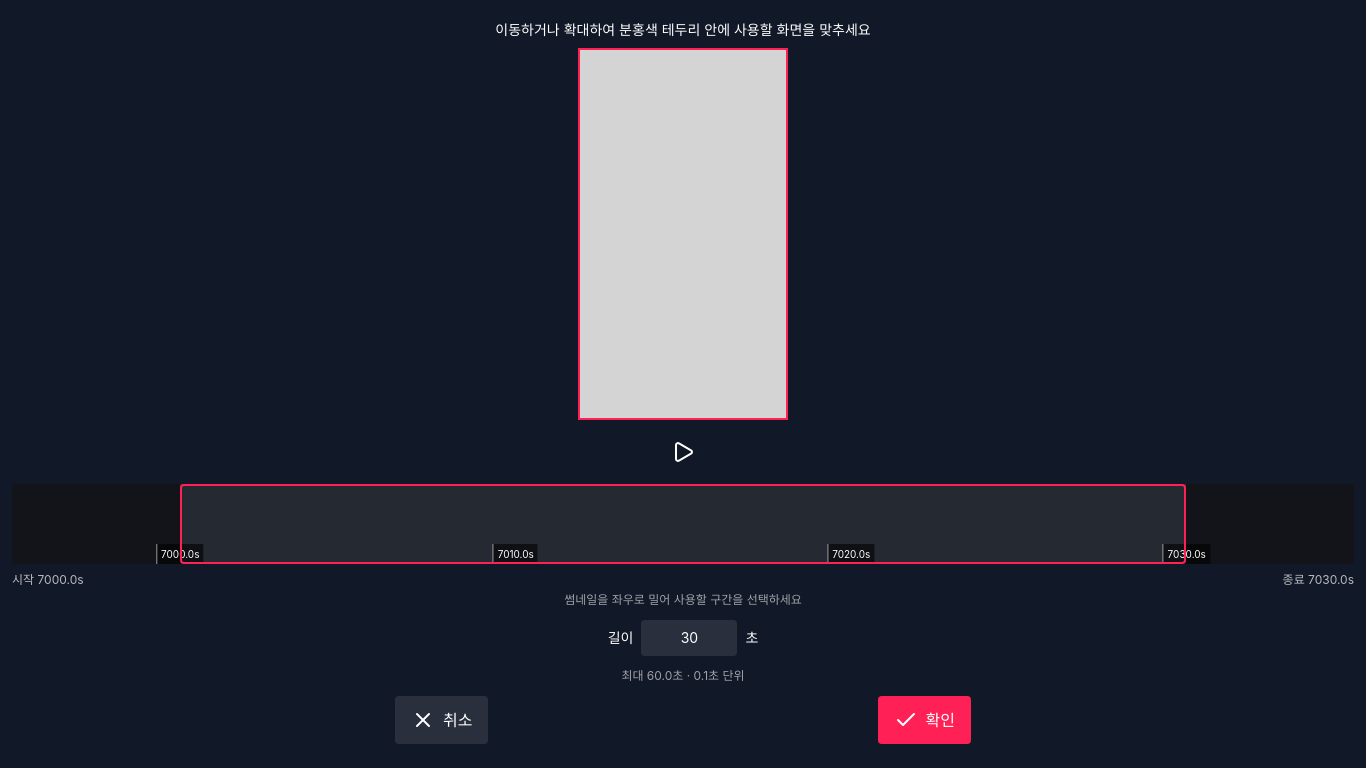
Test: keeps source positions beyond one hour while limiting only the selected length
The width and height of the screenshot is (1366, 768).
Replace the text in the field named "길이(초)" with "60" at (689, 638), box [641,620,737,656]
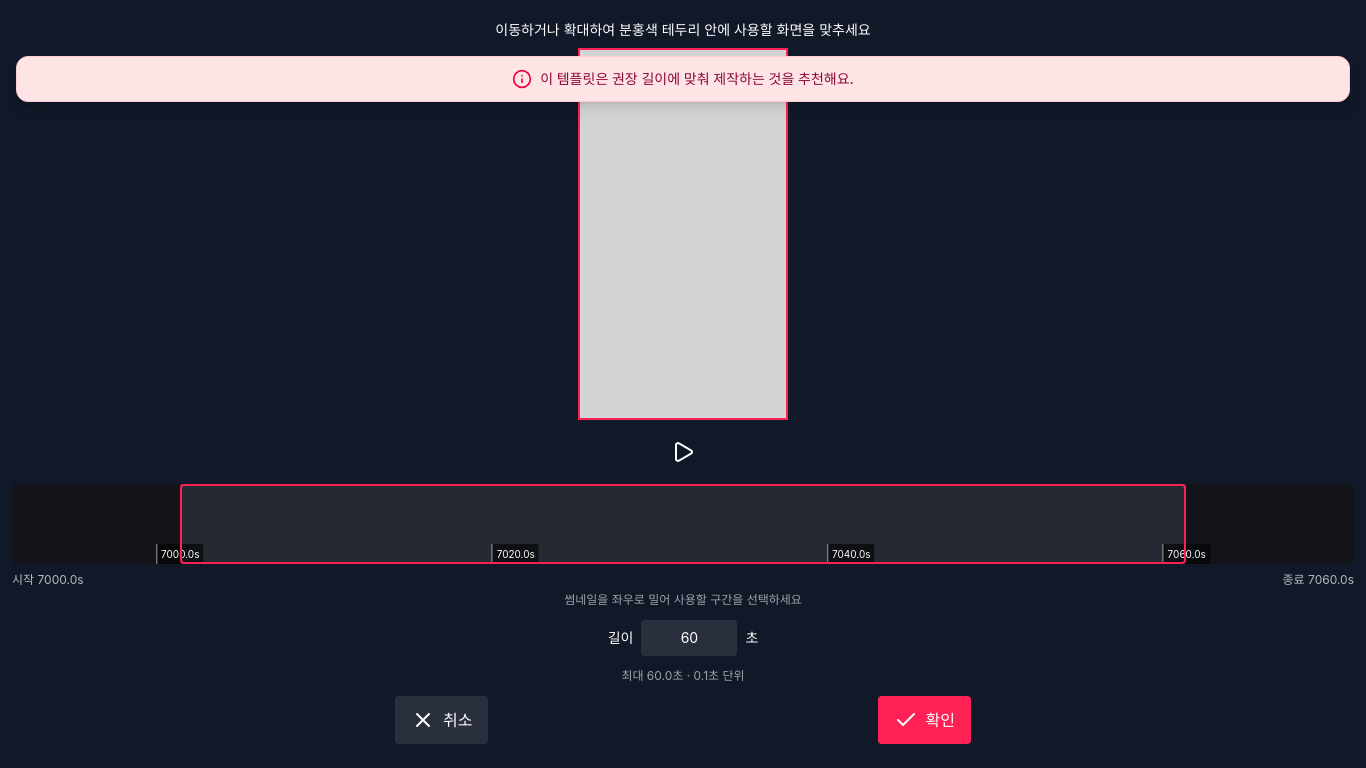
Expected: the button "확인" is enabled, [878,696,971,744]
Expected: the text "종료 7060.0s" is shown, [1283,572,1354,588]
